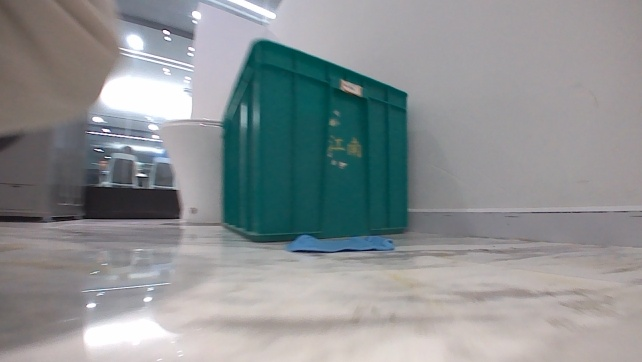socks: (285, 232, 395, 255)
toilet: (157, 115, 228, 229)
